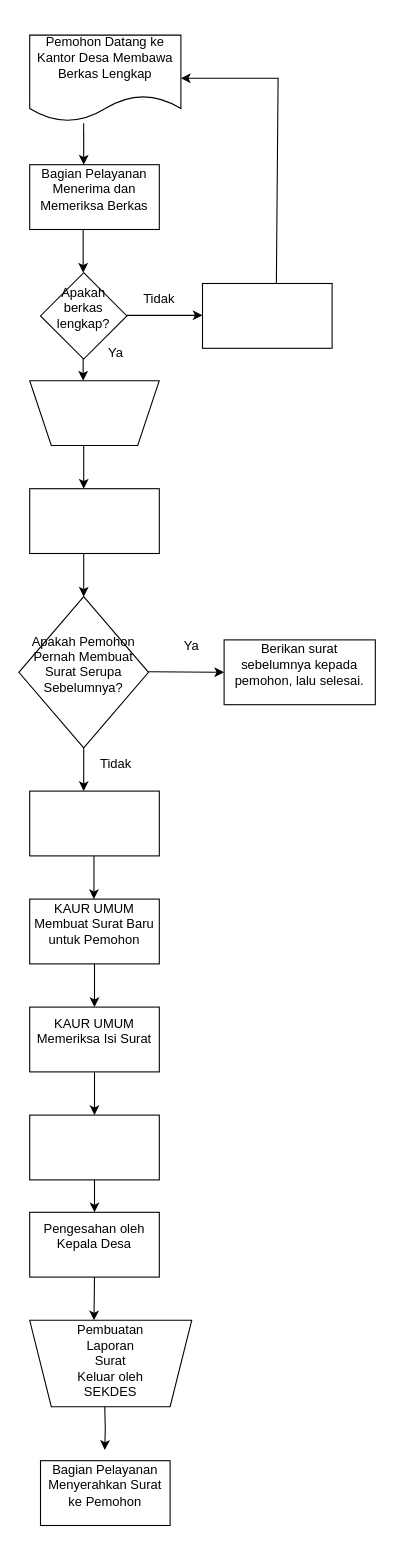
This 394x1557 diagram has some shape labels left out. Each missing label, with the centre of its shape:
"Bagian Pelayanan Menyerahkan Berkas ke KAUR UMUM" belongs at pixel 94 521.
"Lanjut ke langkah pembuatan surat baru" belongs at pixel 94 823.
"Pemohon diminta melengkapi berkas" belongs at pixel 266 315.
"Pemohon Mengisi Buku Jurnal" belongs at pixel 94 413.
"Penyerahan Surat ke SEKDES" belongs at pixel 94 1147.
